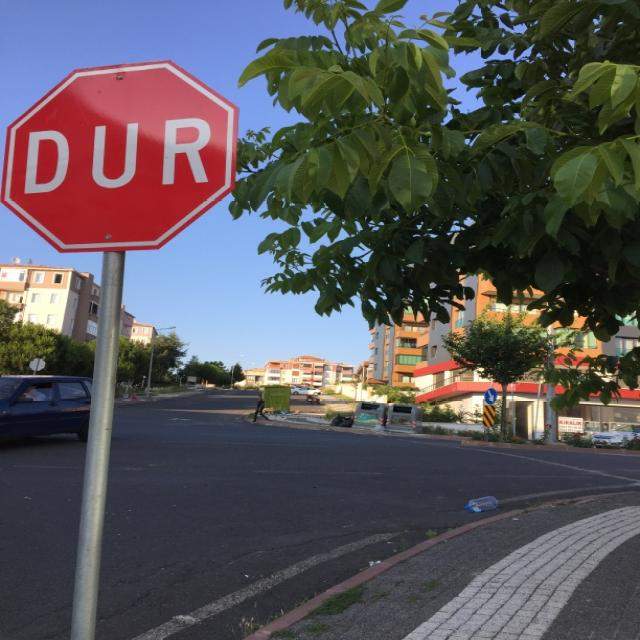dur: (2, 60, 242, 254)
